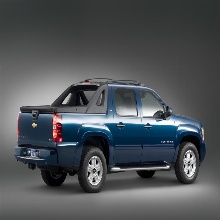no damage: (15, 78, 206, 192)
